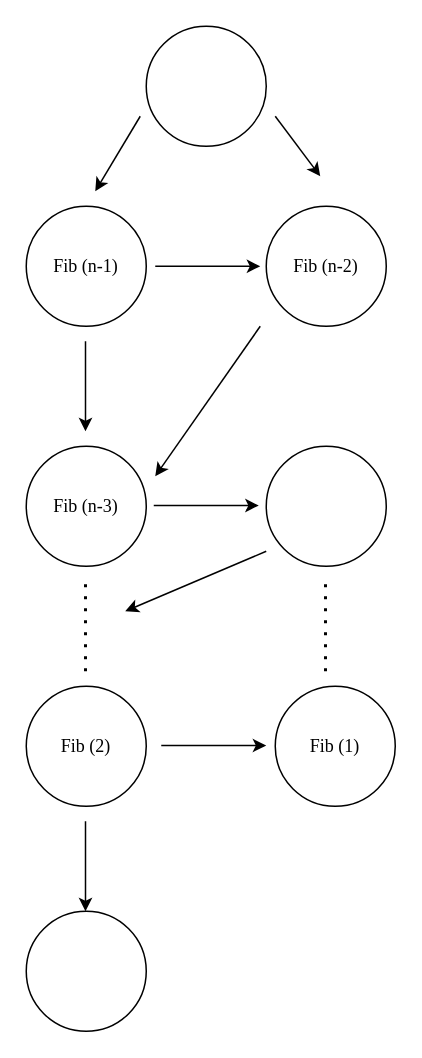
The diagram is 422 pixels wide and 1058 high, and some of its shapes have lost their labels. The shapes that lost their labels are listed below. From the top down, each one's centre as x and y in pixels, then its label:
At pixel 205 85: "Fib (n)".
At pixel 325 505: "Fib (n-4)".
At pixel 85 970: "Fib (0)".
